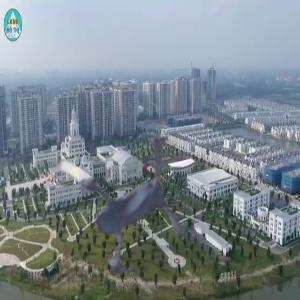drone: (20, 92, 223, 295)
